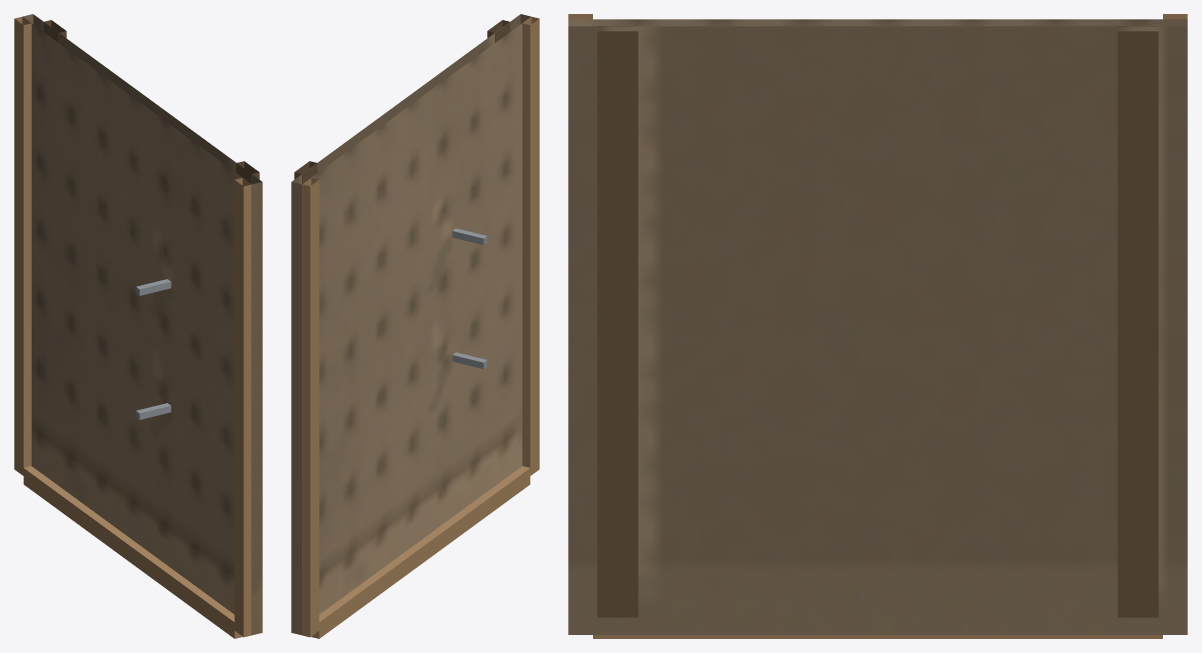
Rendered from section-7.obj.
3 renders of one model, left to right at view 1: azimuth 30°, elevation 25°; view 2: azimuth 150°, elevation 25°; view 3: azimuth 270°, elevation 25°, orthographic. The views are drawn at different scales.
Size of the model in its own units: 0.0995 by 0.833 by 0.754.
Materials: 1 (1 with a texture image).
